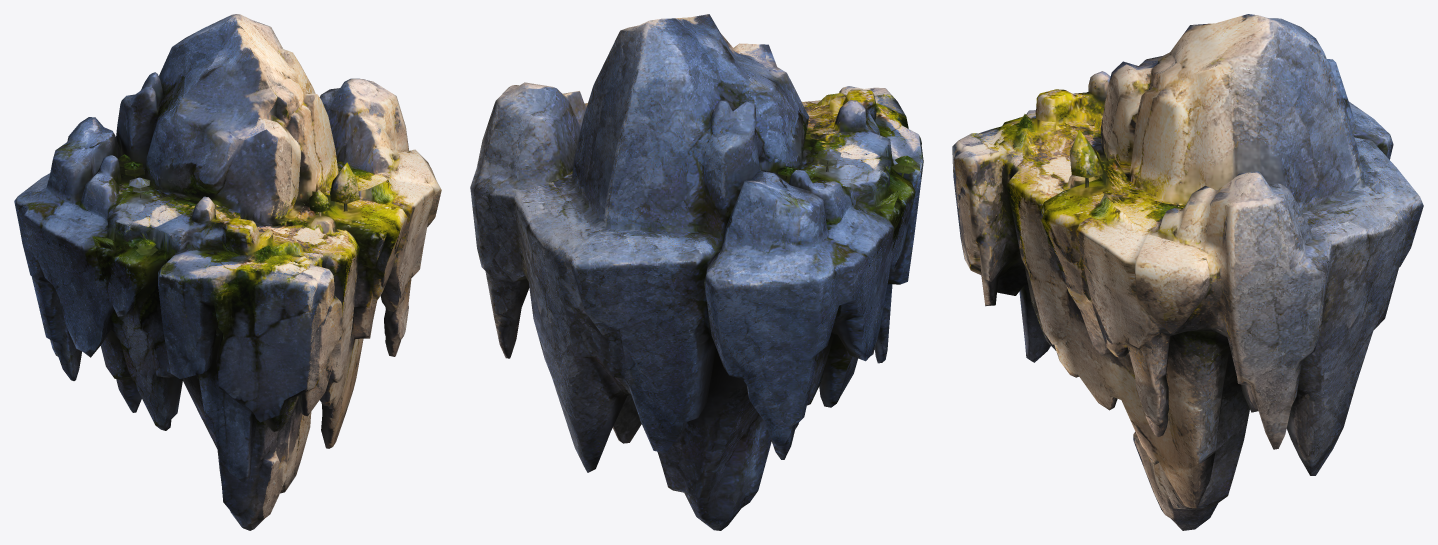
The model's file is rocky+island+3d+model.fbx.
The picture shows the model from 3 angles, left to right: view 1: azimuth 30°, elevation 25°; view 2: azimuth 150°, elevation 25°; view 3: azimuth 270°, elevation 25°; orthographic projection. The views are drawn at different scales.
Visible parts, largest first — view 1: a60c8eee_0b96_426b_aba2_b58cea94e84d; view 2: a60c8eee_0b96_426b_aba2_b58cea94e84d; view 3: a60c8eee_0b96_426b_aba2_b58cea94e84d.
Boxes of the visible parts, x1,y1,x2,y2 form: a60c8eee_0b96_426b_aba2_b58cea94e84d: (14, 14, 441, 530); a60c8eee_0b96_426b_aba2_b58cea94e84d: (470, 14, 923, 530); a60c8eee_0b96_426b_aba2_b58cea94e84d: (952, 14, 1423, 530).
Size of the model in its own units: 0.7817 by 0.9995 by 0.814.
